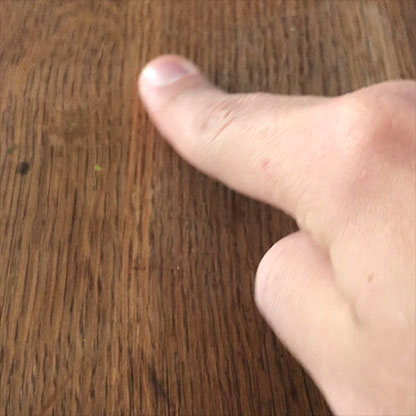fingertip: (131, 46, 209, 111)
